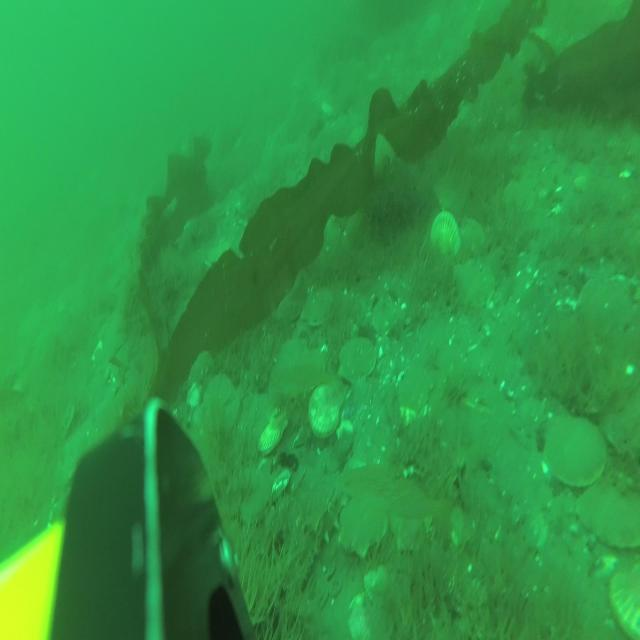holothurian: (298, 488, 346, 575)
scallop: (543, 410, 603, 489), (577, 476, 640, 546), (579, 270, 628, 332), (341, 491, 387, 557), (202, 372, 240, 434), (452, 259, 494, 314), (272, 342, 312, 399), (428, 211, 462, 268), (241, 389, 275, 446), (339, 336, 375, 385), (453, 214, 484, 268), (308, 386, 342, 434), (256, 411, 288, 454), (303, 286, 335, 324), (504, 177, 534, 217), (370, 298, 398, 339)
